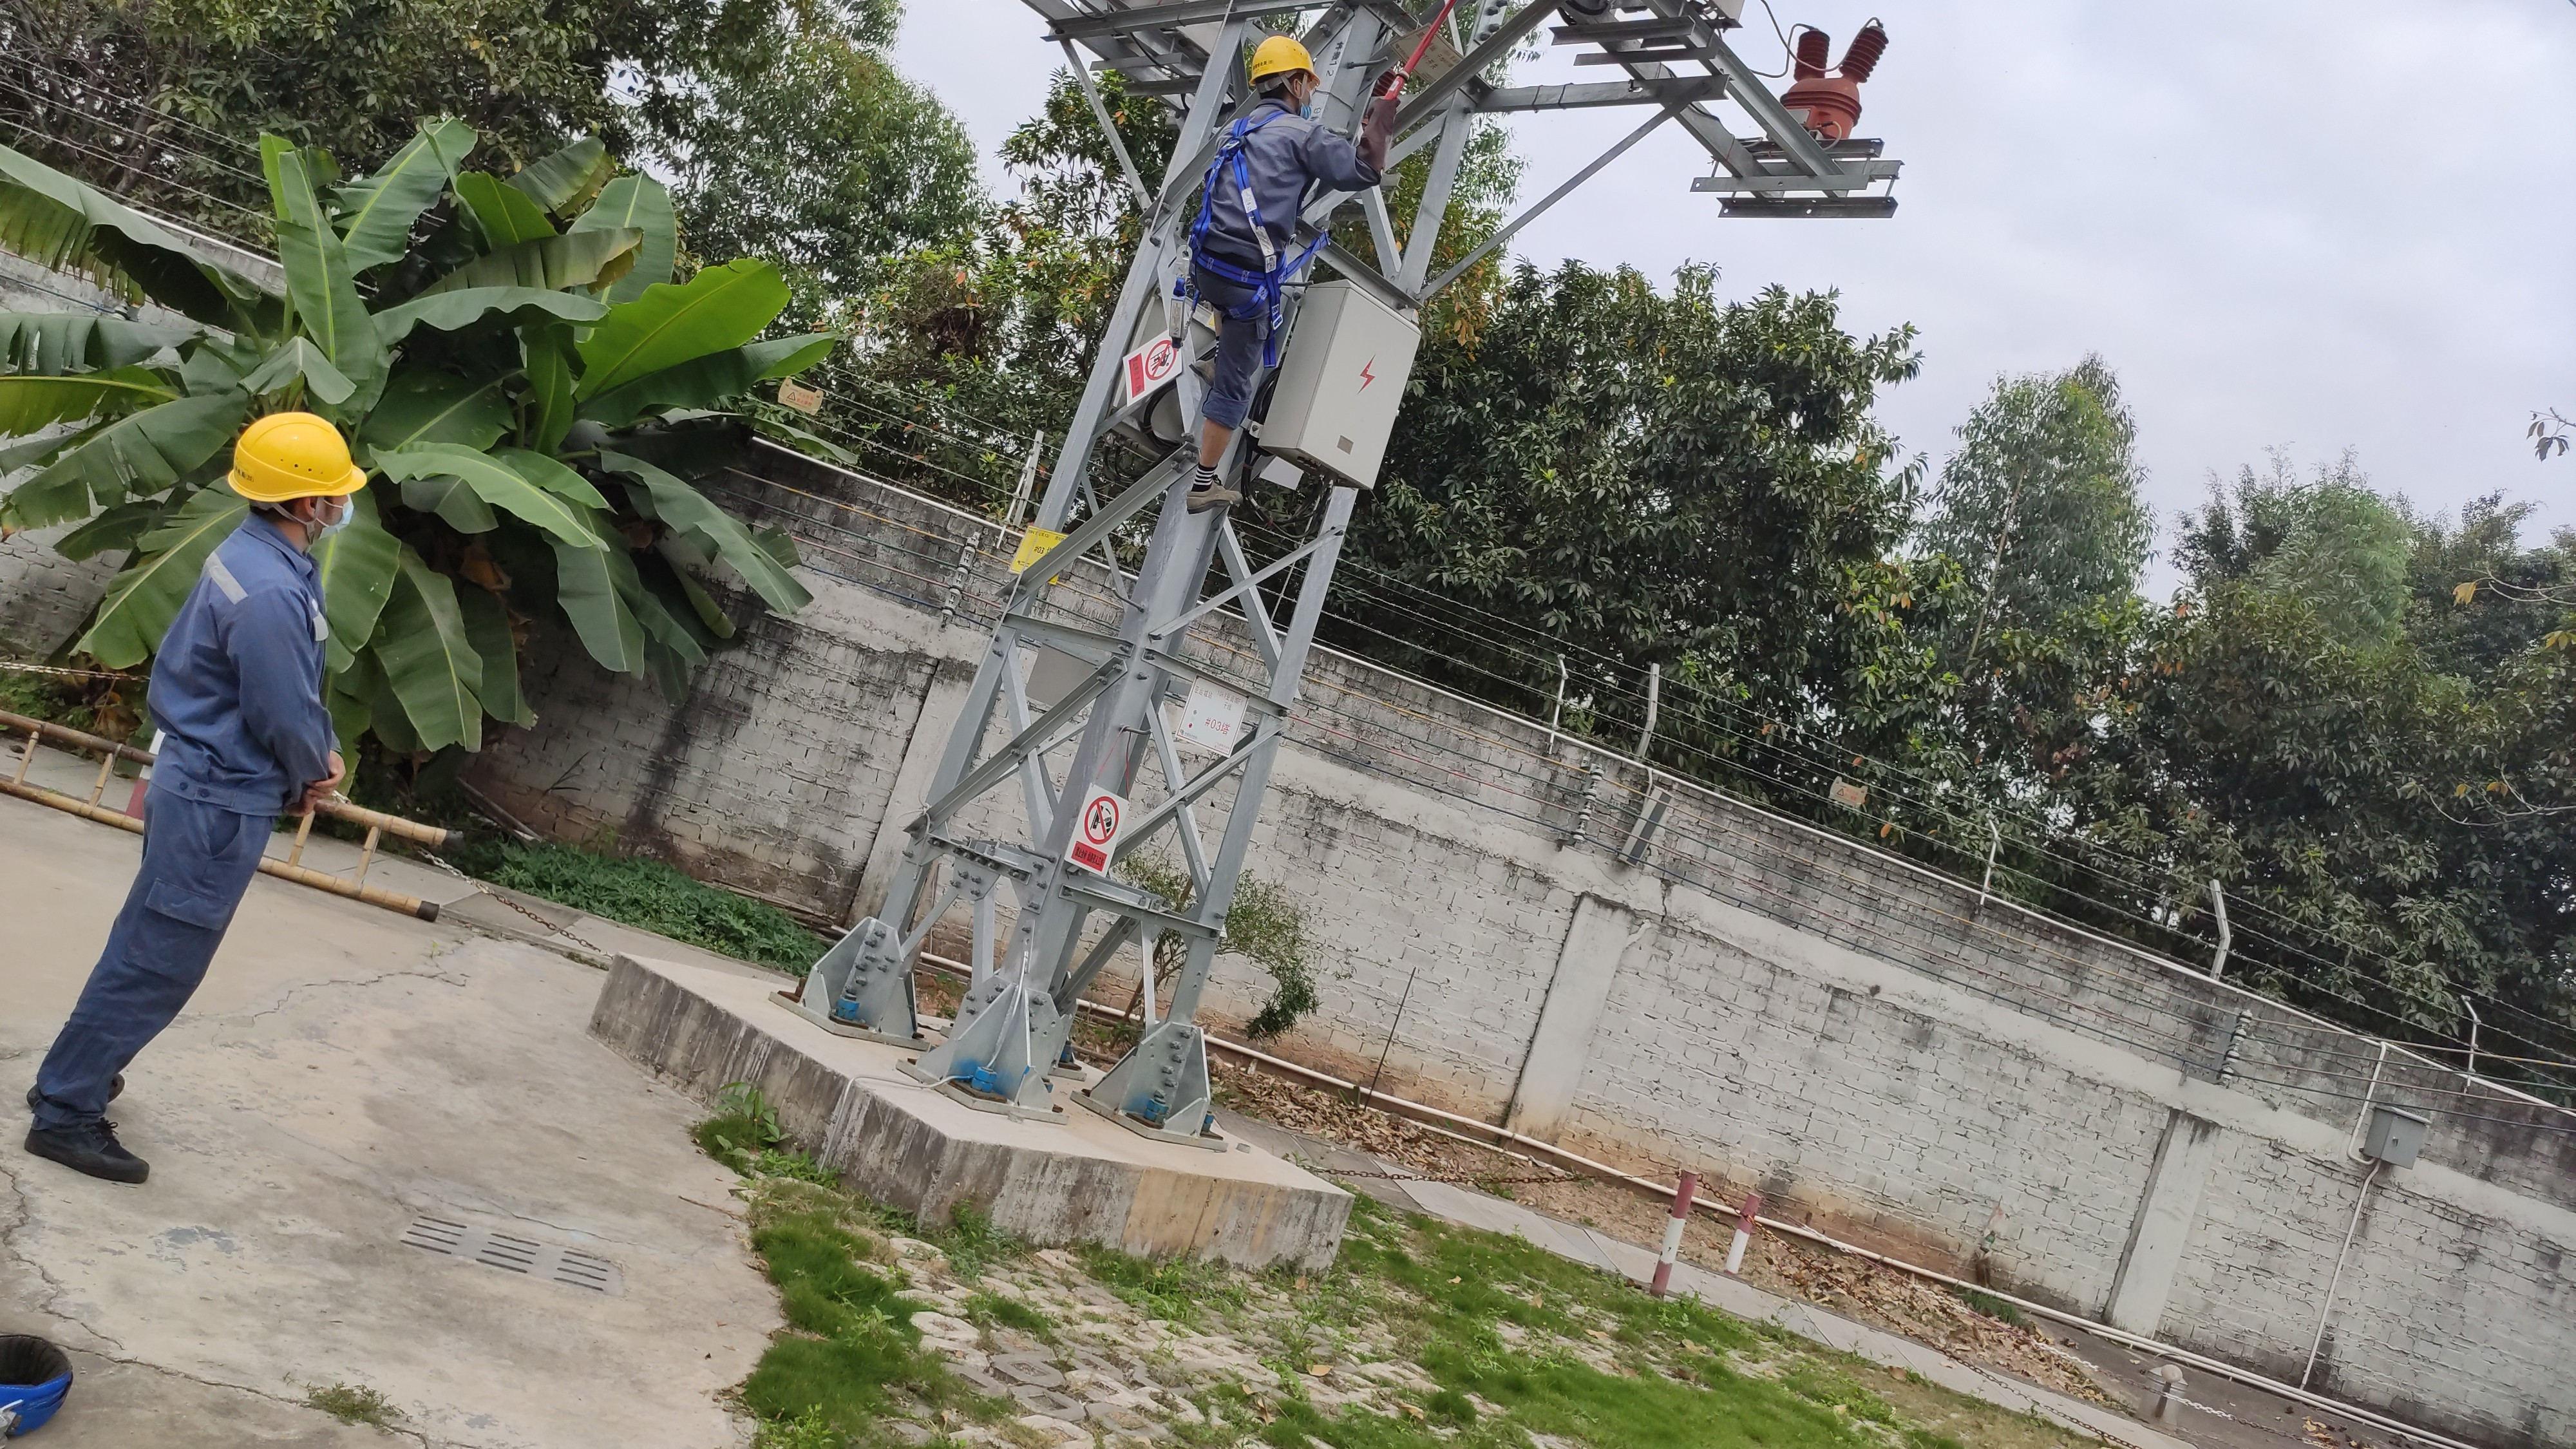downsuit: (46, 812, 269, 1125), (1185, 260, 1279, 426)
upsuit: (143, 524, 341, 798), (1192, 99, 1371, 262)
wrongbottom: (1192, 389, 1244, 483)
